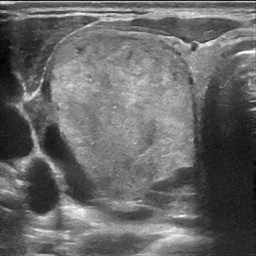mass: (49, 29, 191, 201)
